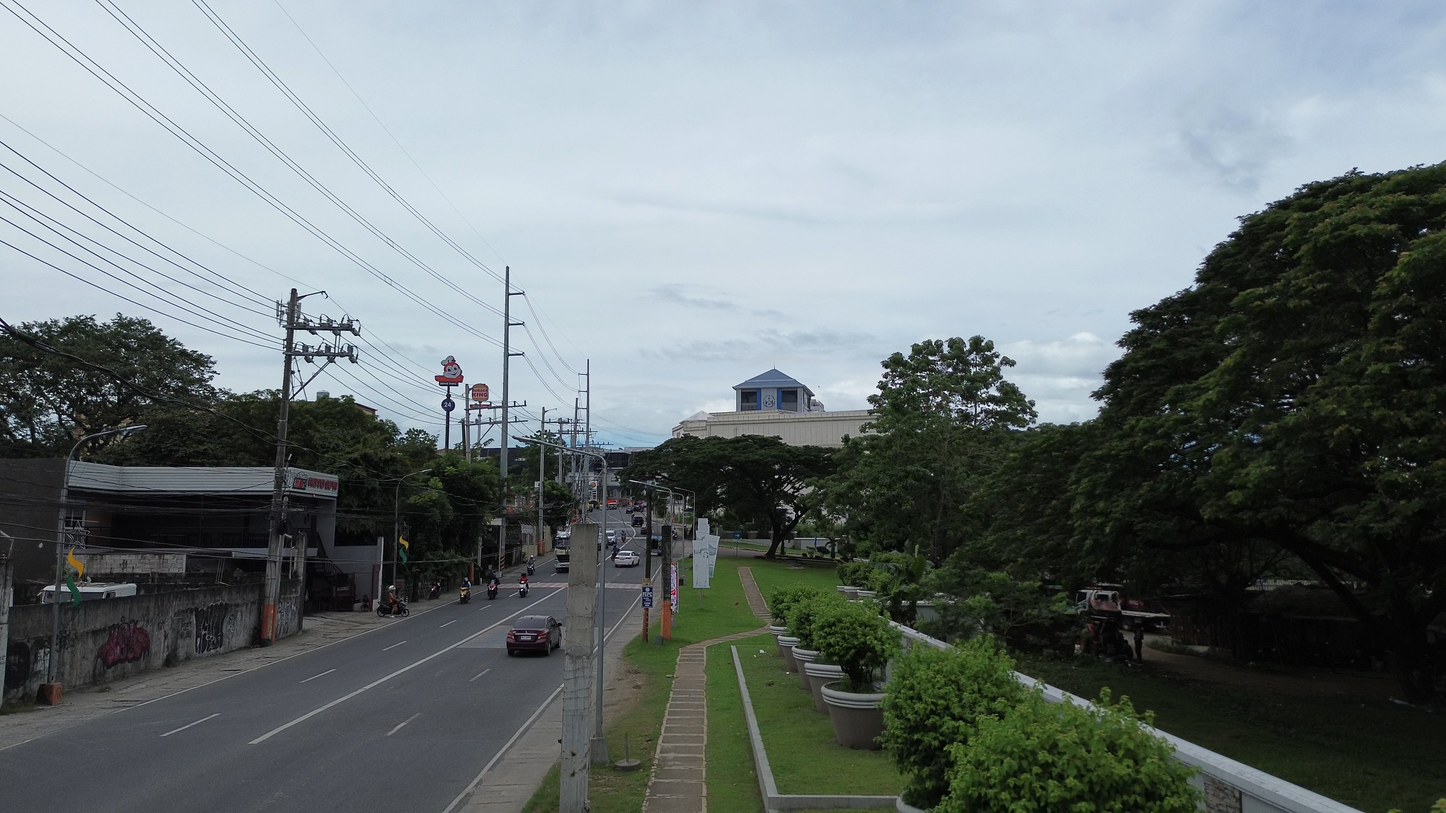car: (506, 615, 561, 655), (614, 550, 641, 566)
motorcycle: (487, 581, 499, 600), (429, 581, 441, 600), (459, 585, 470, 604), (519, 578, 529, 597), (526, 556, 535, 576)
vehicle: (76, 582, 137, 601), (376, 599, 409, 617), (518, 575, 529, 597), (631, 514, 645, 527), (526, 557, 535, 576)
